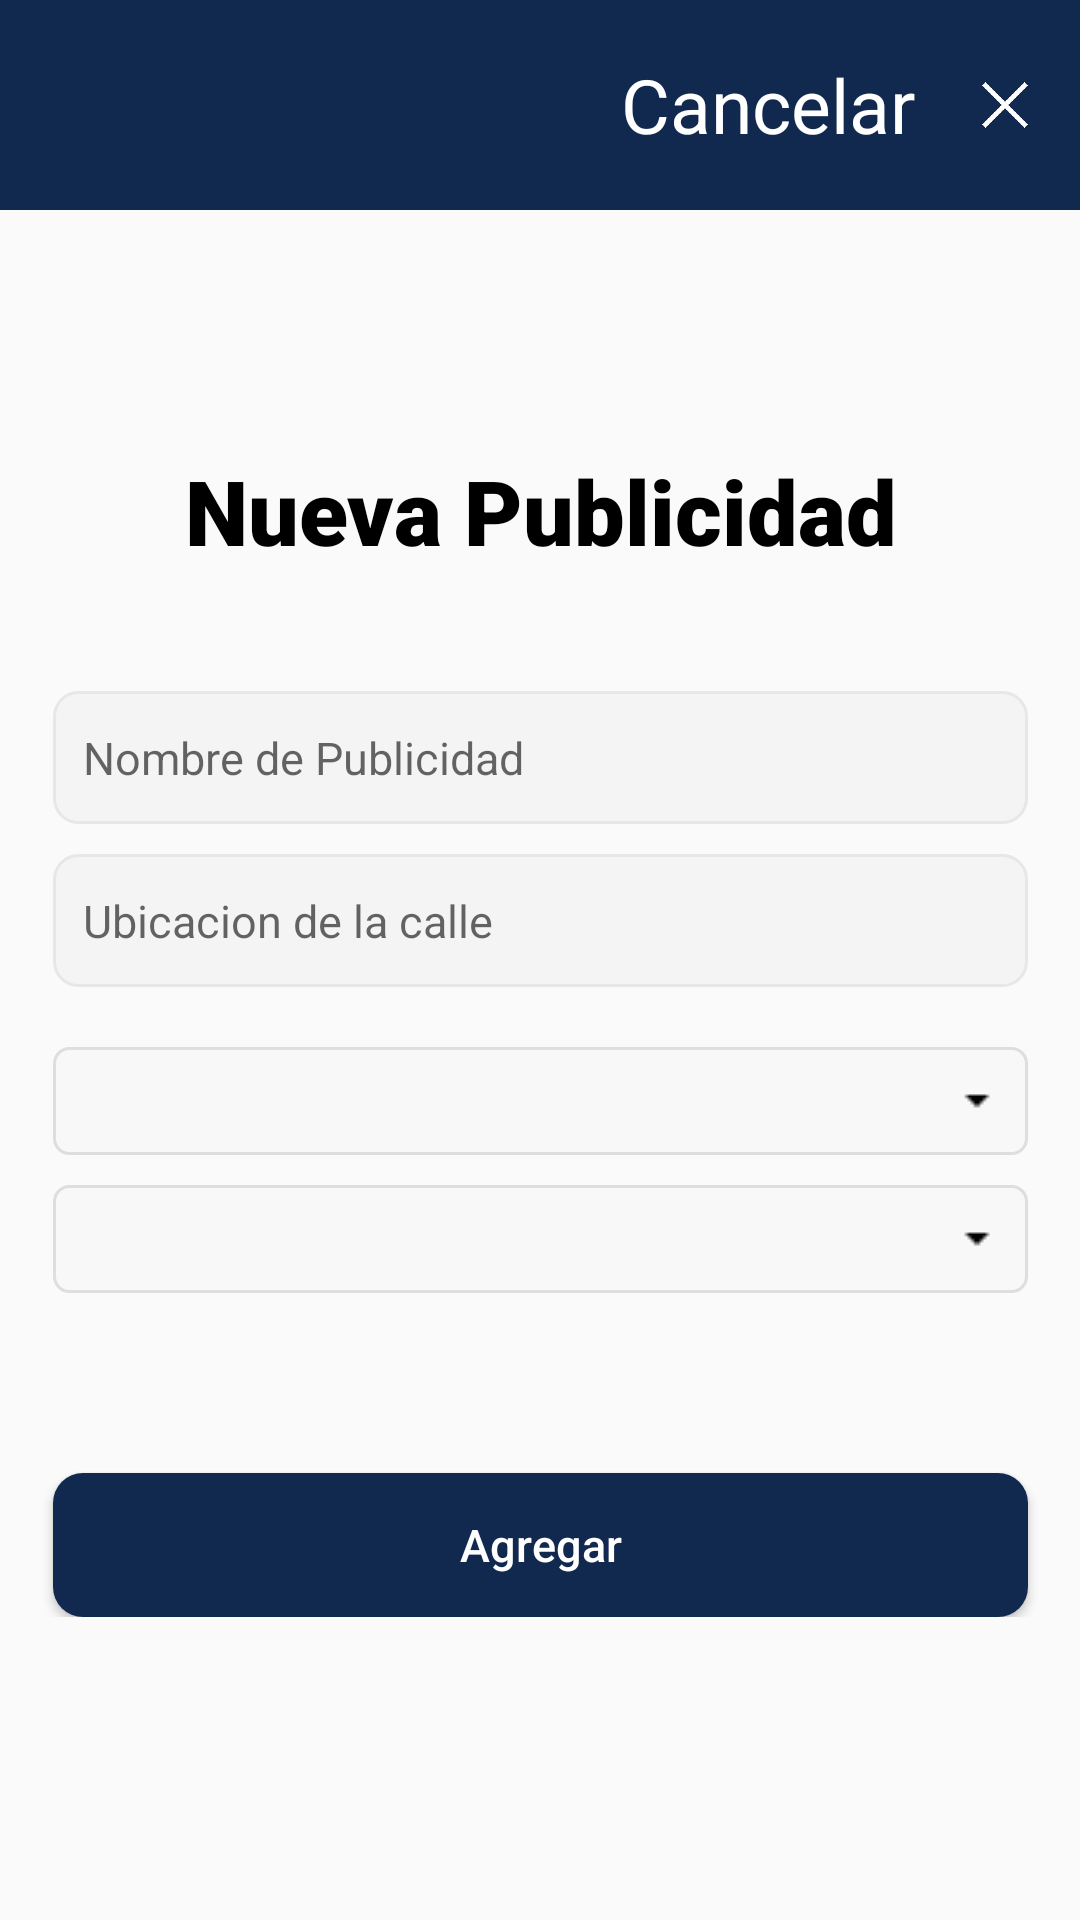

Icons on this 1080 x 1920 Android screen, each with the point to tap as (x=x, y=y):
cancelx: (x=1005, y=105)
